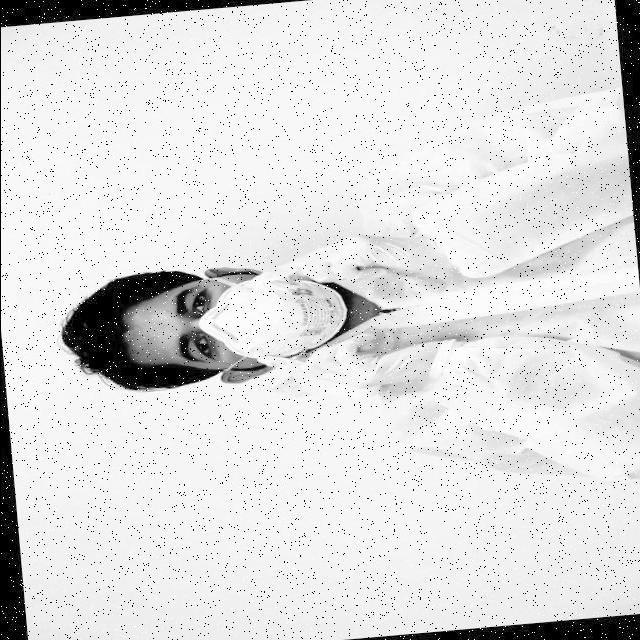apron: (264, 228, 443, 280), (284, 336, 430, 391)
